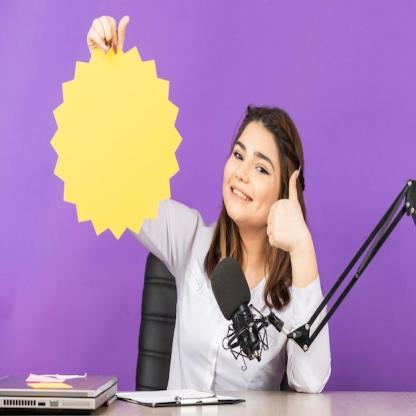thumb_up: (264, 162, 310, 251)
